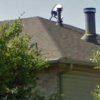Chimney: (75, 4, 99, 57)
